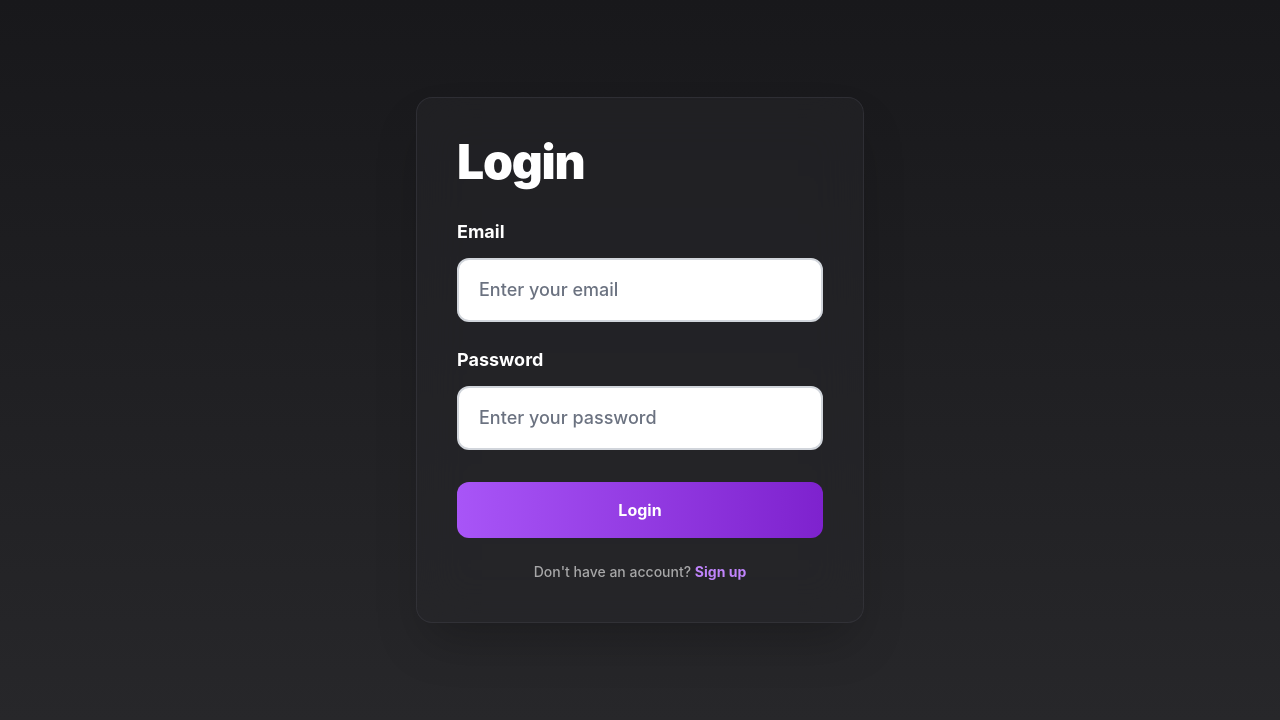
Test: Login Page › displays error message on login failure
The image size is (1280, 720).
Type "bad@example.com" into the field labelled "Email".
click(640, 290); type("bad@example.com")  # box x1=457 y1=258 x2=823 y2=322
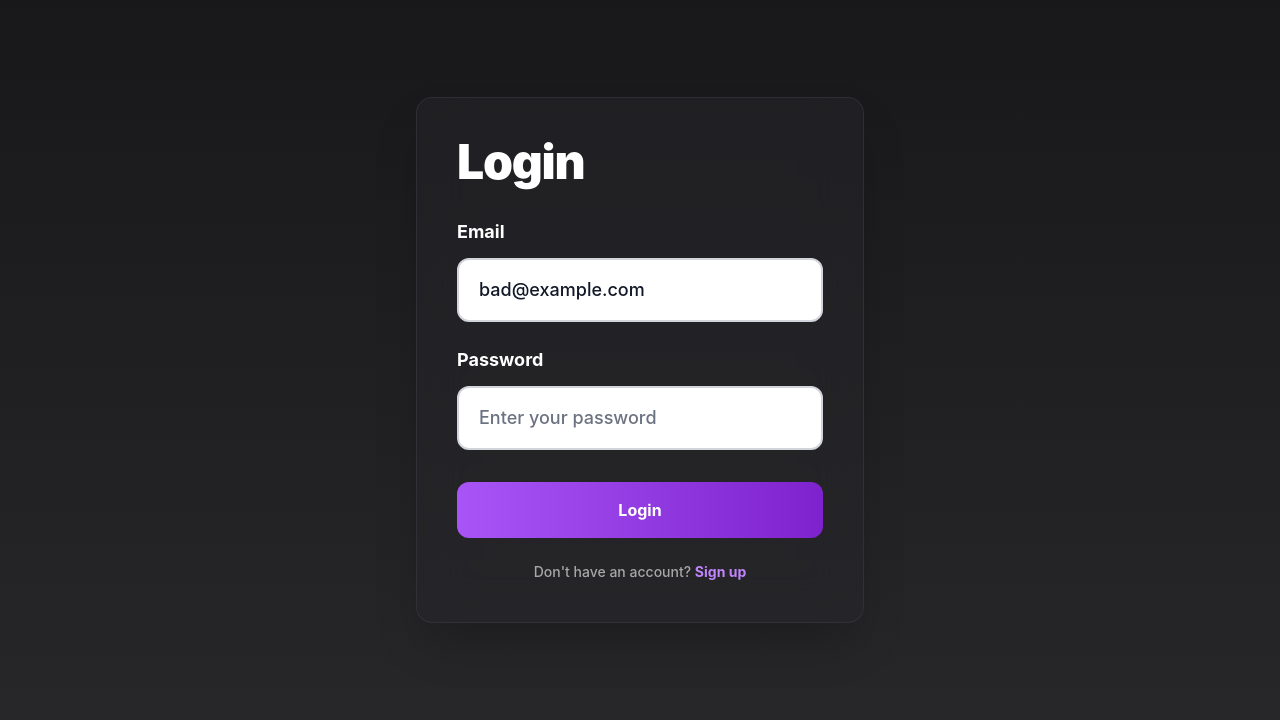
Type "wrong" into the password field labelled "Password".
click(640, 418); type("wrong")  # box x1=457 y1=386 x2=823 y2=450
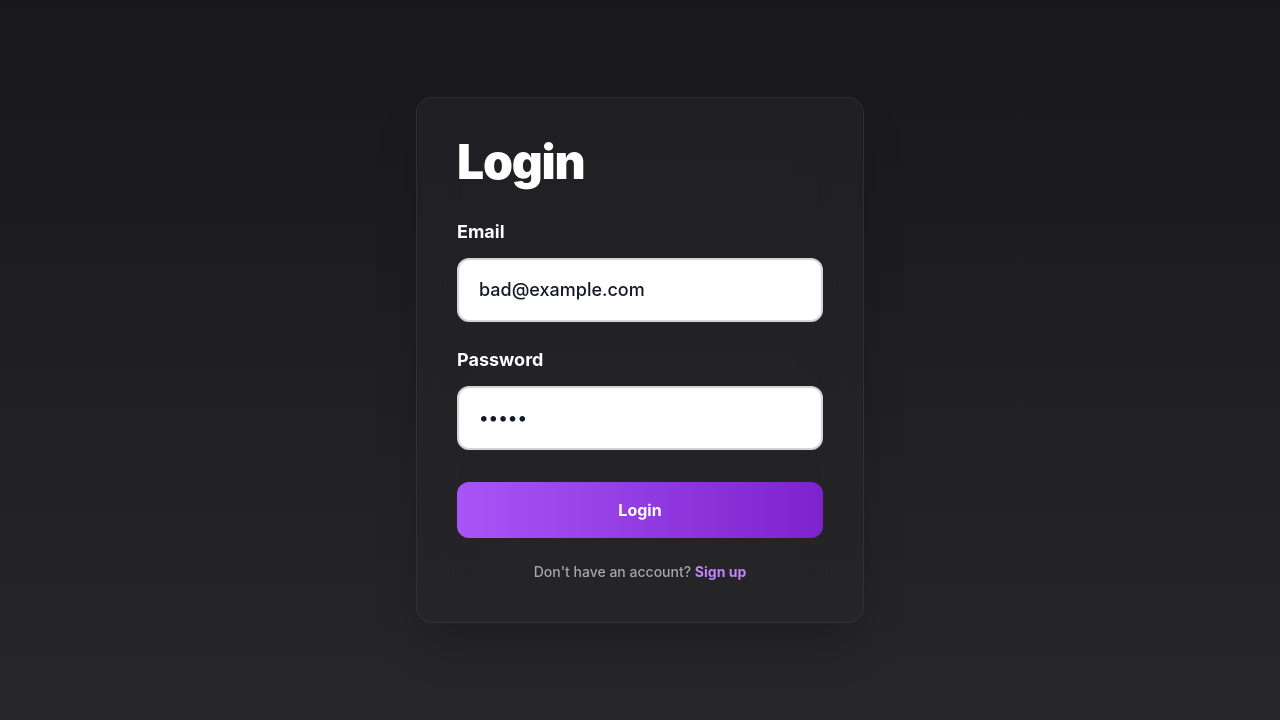
Click the button "Login".
click(640, 510)  # box x1=457 y1=482 x2=823 y2=538
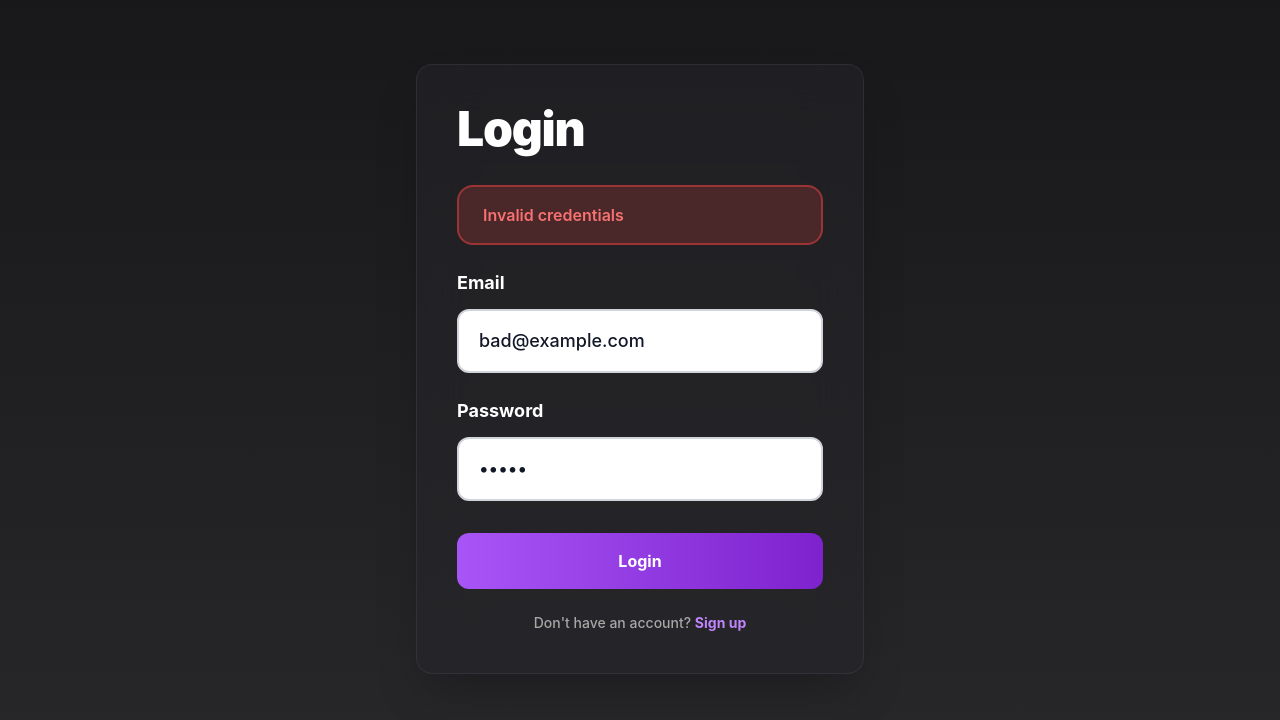
Check: the text "Invalid credentials" is shown, box x1=457 y1=185 x2=823 y2=245
